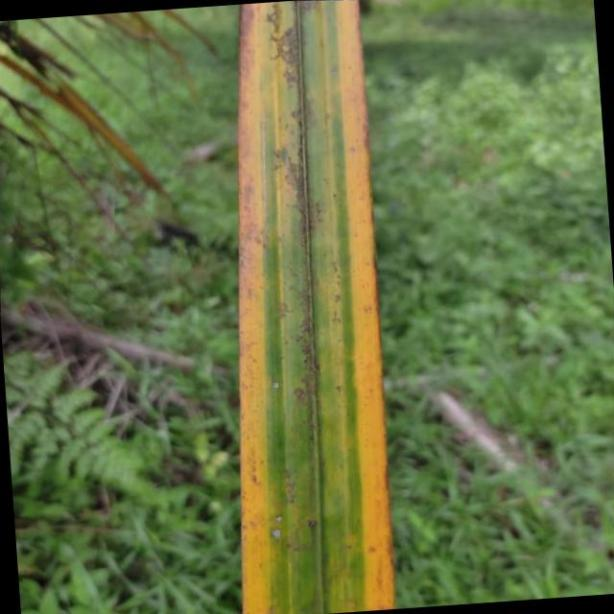Megnesium: (234, 0, 396, 614)
